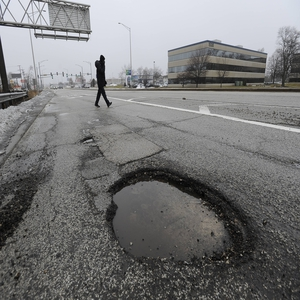pothole: (103, 167, 259, 271)
